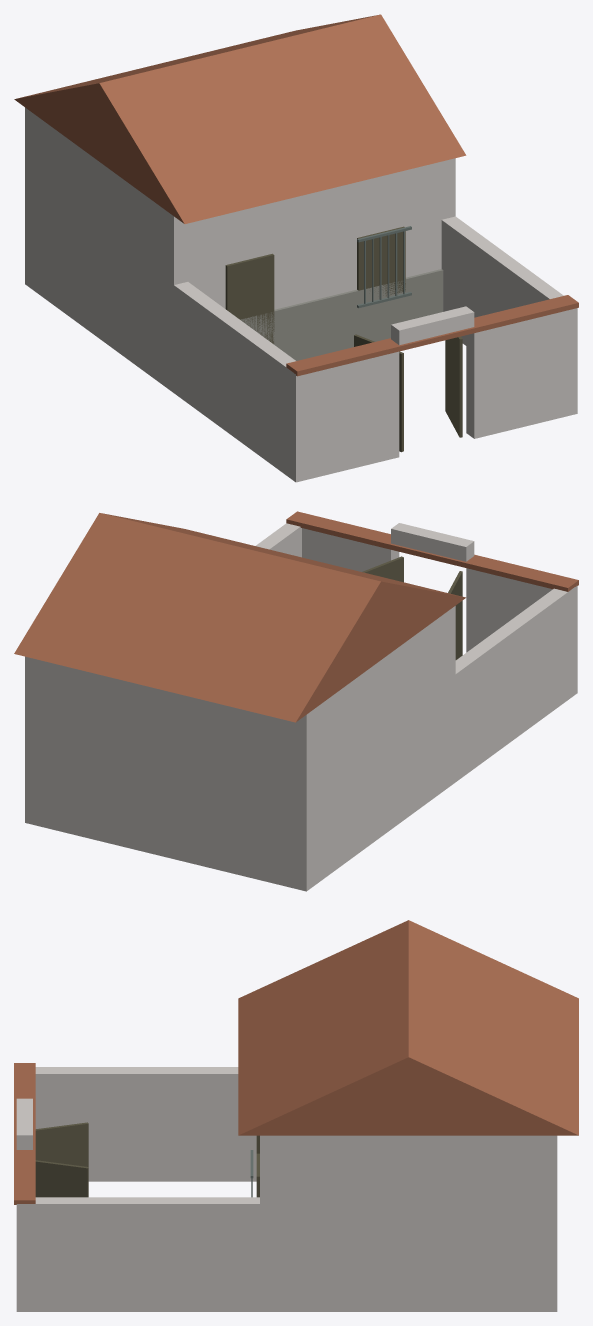
Rendered from SM_CasaPatio_v1_Abierto_LOD0.fbx.
3 renders of one model, top to bottom at view 1: azimuth 30°, elevation 25°; view 2: azimuth 150°, elevation 25°; view 3: azimuth 270°, elevation 25°, orthographic.
Parts seen in each view (by area): view 1: SM_pueblo_valenciano_v16_LOD0; view 2: SM_pueblo_valenciano_v16_LOD0; view 3: SM_pueblo_valenciano_v16_LOD0.
Boxes of the visible parts, bbox=[...] form: SM_pueblo_valenciano_v16_LOD0: bbox=[14, 14, 578, 482]; SM_pueblo_valenciano_v16_LOD0: bbox=[14, 511, 578, 891]; SM_pueblo_valenciano_v16_LOD0: bbox=[14, 920, 578, 1311].
Bounding box in the file's own units: 6 × 5.2 × 10.45.
